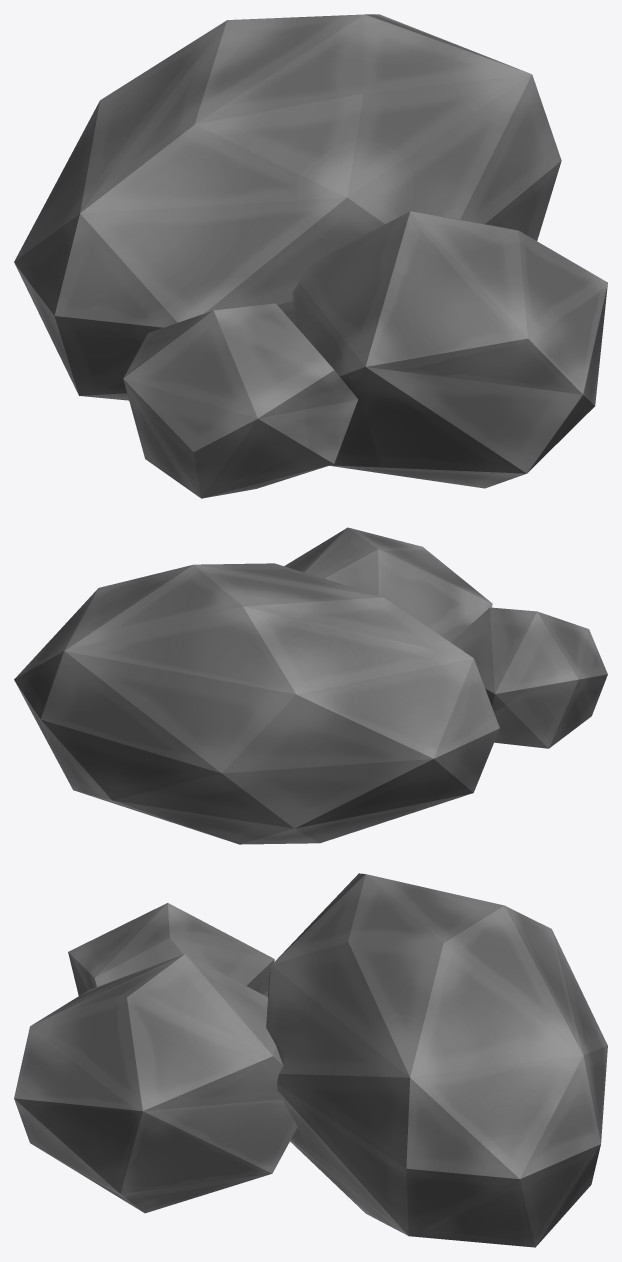
Rendered from _P_Rock.fbx.
3 views of the same model, one above another, from view 1: azimuth 30°, elevation 25°; view 2: azimuth 150°, elevation 25°; view 3: azimuth 270°, elevation 25° (orthographic). The views are drawn at different scales.
Parts seen in each view (by area): view 1: Icosphere.001; view 2: Icosphere.001; view 3: Icosphere.001.
Boxes of the visible parts, x1,y1,x2,y2 form: Icosphere.001: (14, 14, 607, 498); Icosphere.001: (14, 527, 607, 844); Icosphere.001: (14, 873, 607, 1247).
Size of the model in its own units: 108 by 190 by 193.
